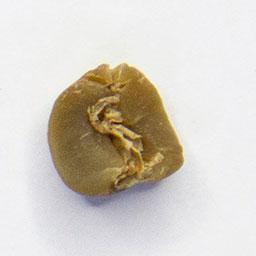defect: (46, 61, 187, 200)
